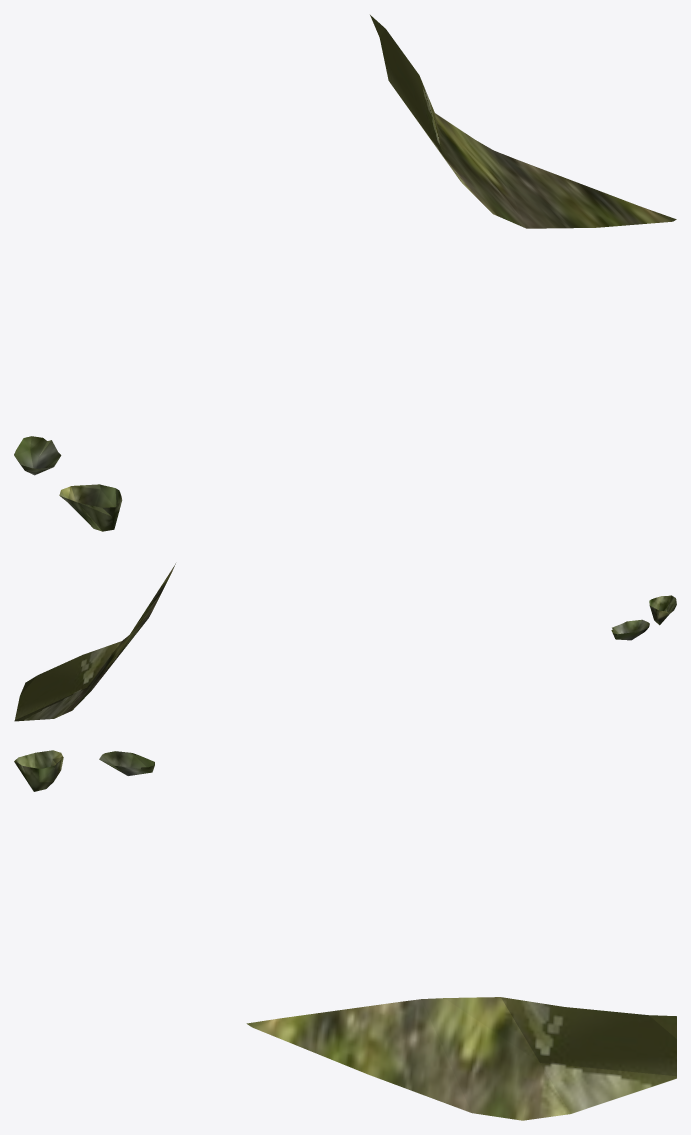
The picture shows the model from 3 angles, top to bottom: view 1: azimuth 30°, elevation 25°; view 2: azimuth 150°, elevation 25°; view 3: azimuth 270°, elevation 25°; orthographic projection. The views are drawn at different scales.
Size of the model in its own units: 2.56 by 0.4238 by 2.62.
1 material, 1 textured.
